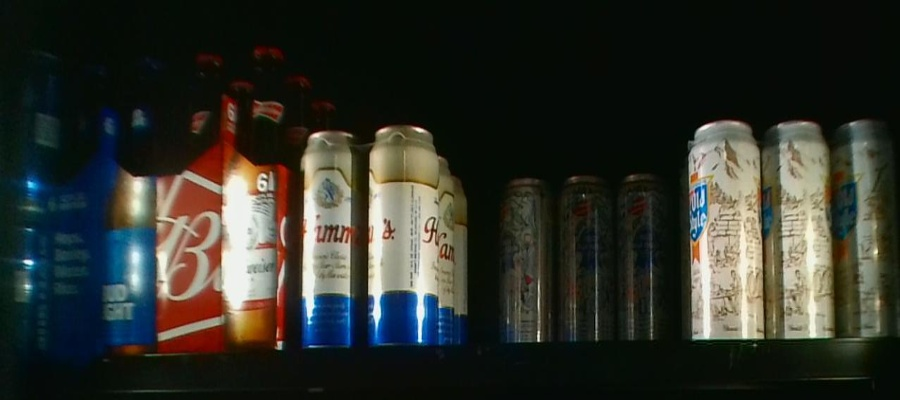bottle: (686, 122, 897, 340), (162, 47, 291, 351), (49, 53, 155, 355), (294, 129, 439, 345), (500, 175, 672, 340)
